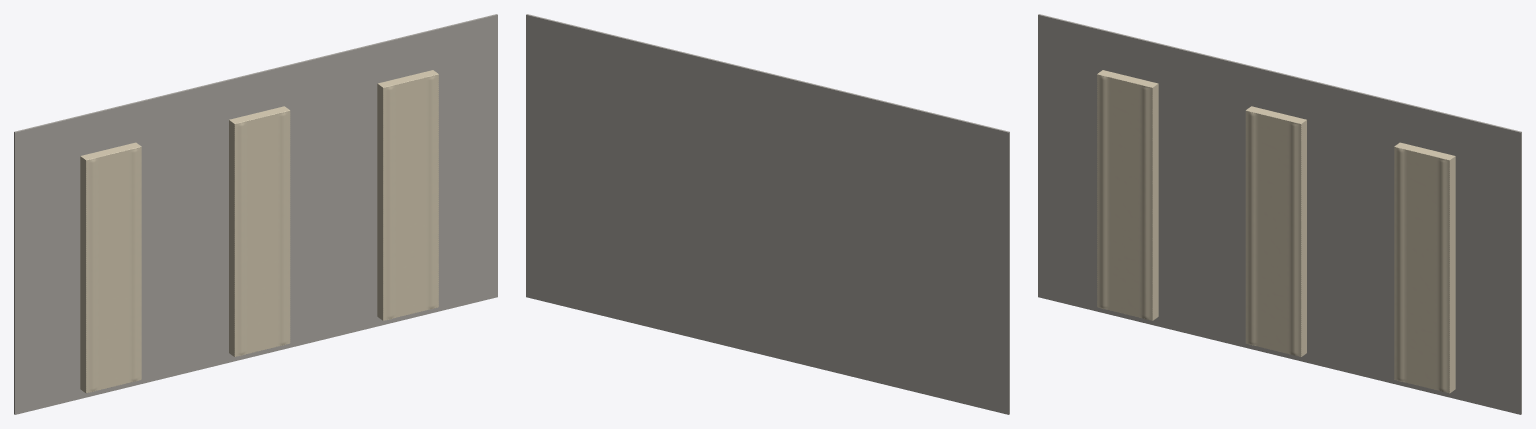
Rendered from terilgan.glb.
3 views of the same model, side by side, from view 1: azimuth 30°, elevation 25°; view 2: azimuth 150°, elevation 25°; view 3: azimuth 330°, elevation 25° (orthographic).
Parts seen in each view (by area): view 1: Devor, t2, t0, t1; view 2: Devor; view 3: Devor, t0, t1, t2.
Part boxes in pixels (<box>): Devor: <box>14,14,497,414</box>; t2: <box>377,70,438,320</box>; t0: <box>80,142,141,393</box>; t1: <box>229,106,290,356</box>; Devor: <box>526,14,1009,414</box>; Devor: <box>1038,14,1521,414</box>; t0: <box>1097,70,1158,320</box>; t1: <box>1245,106,1306,356</box>; t2: <box>1394,142,1455,393</box>.
Size of the model in its own units: 2.6 by 1.45 by 0.0711.
